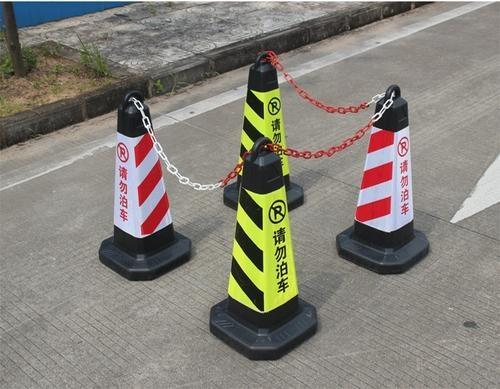cone_barrel: (207, 138, 318, 356), (334, 84, 431, 265), (98, 90, 191, 275), (222, 57, 299, 212)
